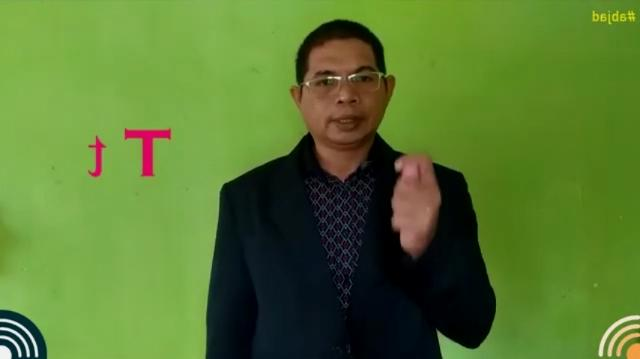T: (388, 153, 444, 255)
